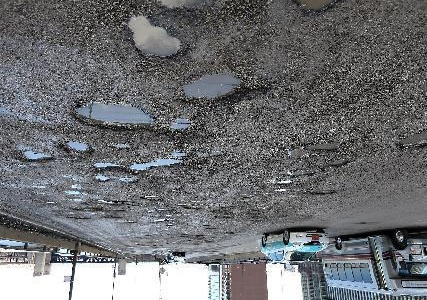pothole: (69, 100, 158, 136), (124, 14, 183, 62), (177, 70, 247, 106), (126, 156, 183, 173), (289, 0, 338, 18), (397, 128, 427, 151), (58, 140, 93, 158), (19, 149, 57, 165), (303, 142, 342, 153), (91, 160, 125, 172), (92, 174, 112, 184)
